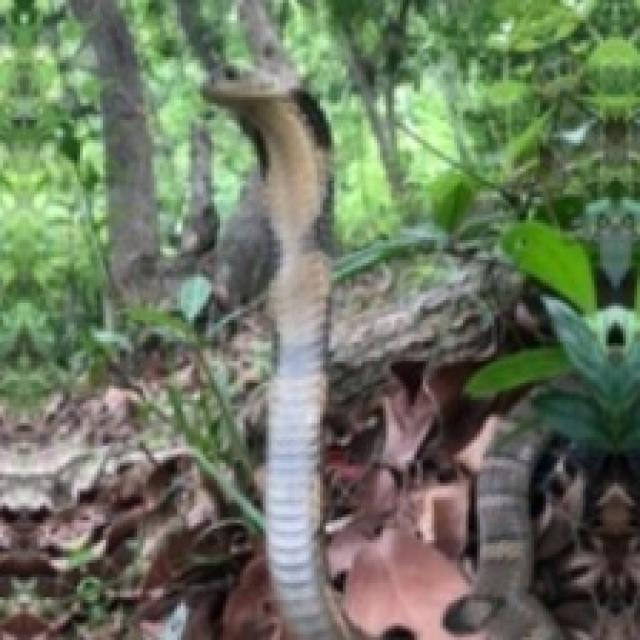king cobra: (206, 71, 560, 637)
